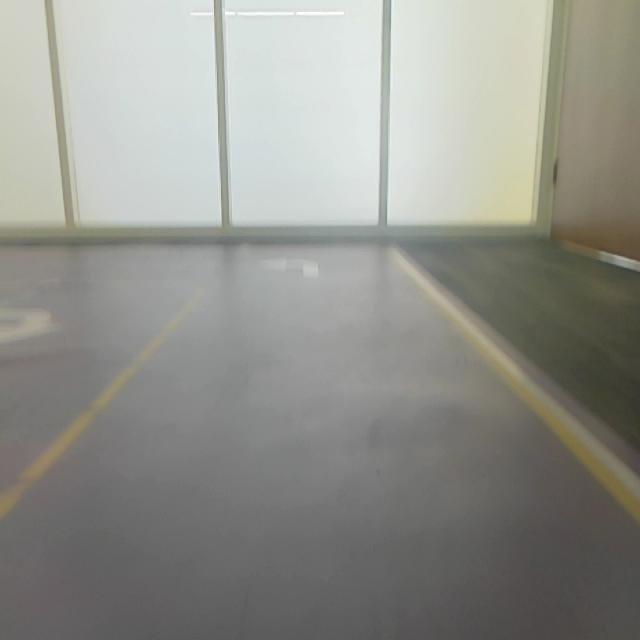left_lane: (0, 290, 203, 522)
right_lane: (400, 256, 640, 523)
